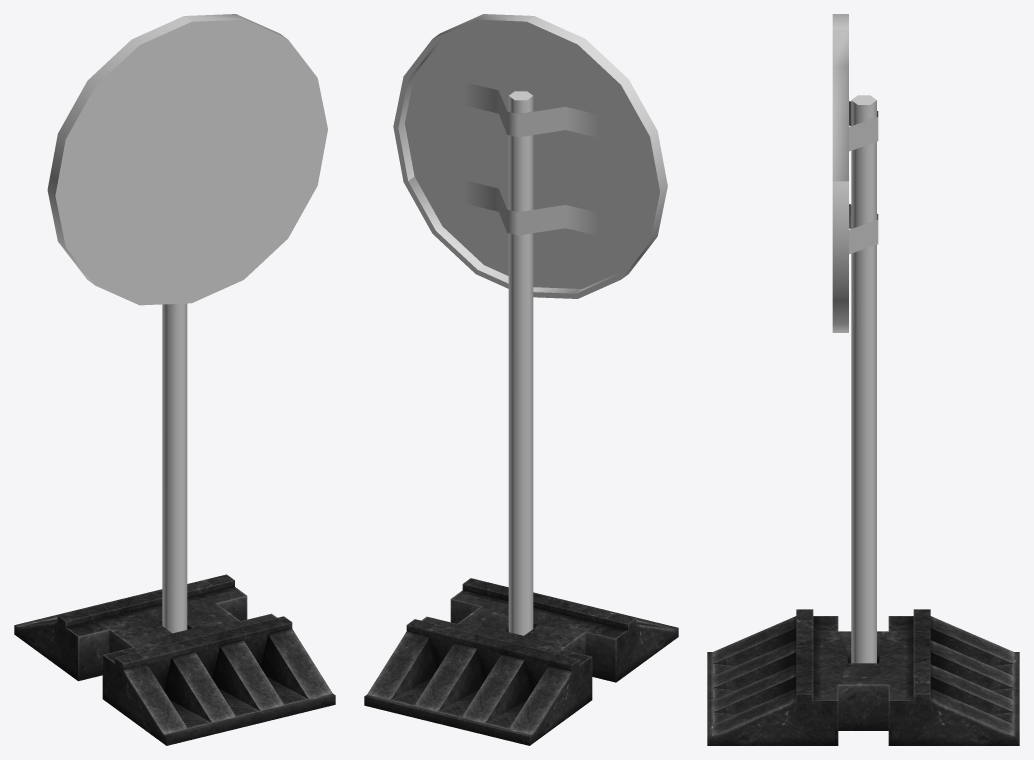
File: ProhibitionTemporary_Speed30.fbx
The picture shows the model from 3 angles, left to right: view 1: azimuth 30°, elevation 25°; view 2: azimuth 150°, elevation 25°; view 3: azimuth 270°, elevation 25°; orthographic projection. The views are drawn at different scales.
Visible parts, largest first — view 1: ProhibitionTemporary_Speed30_LOD0; view 2: ProhibitionTemporary_Speed30_LOD0; view 3: ProhibitionTemporary_Speed30_LOD0.
Boxes of the visible parts, x1,y1,x2,y2 form: ProhibitionTemporary_Speed30_LOD0: (14,14,335,745); ProhibitionTemporary_Speed30_LOD0: (364,14,678,745); ProhibitionTemporary_Speed30_LOD0: (707,14,1019,745).
Size of what is drawn, in the model's own units: 0.7096 by 1.64 by 0.6866.
